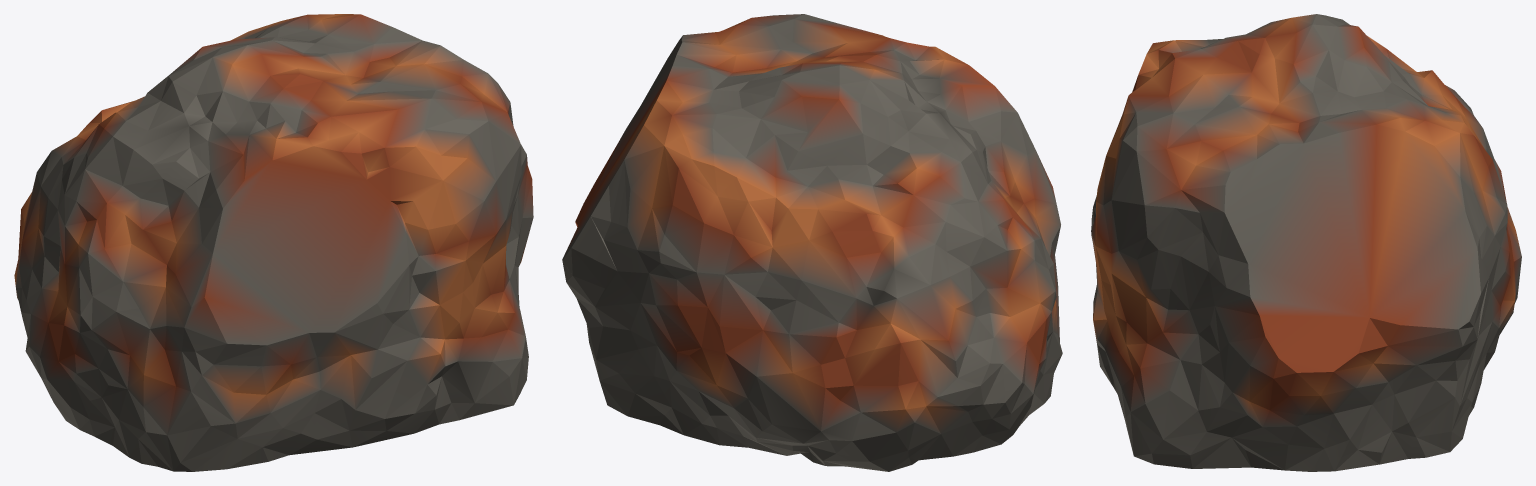
Rendered from ironore.glb.
The picture shows the model from 3 angles, left to right: view 1: azimuth 30°, elevation 25°; view 2: azimuth 150°, elevation 25°; view 3: azimuth 270°, elevation 25°; orthographic projection. The views are drawn at different scales.
Parts seen in each view (by area): view 1: ironore; view 2: ironore; view 3: ironore.
Boxes of the visible parts, left/top/right/bottom form: ironore: left=14, top=14, right=533, bottom=471; ironore: left=562, top=14, right=1062, bottom=471; ironore: left=1091, top=14, right=1521, bottom=471.
Size of the model in its own units: 0.3205 by 0.2204 by 0.2503.
